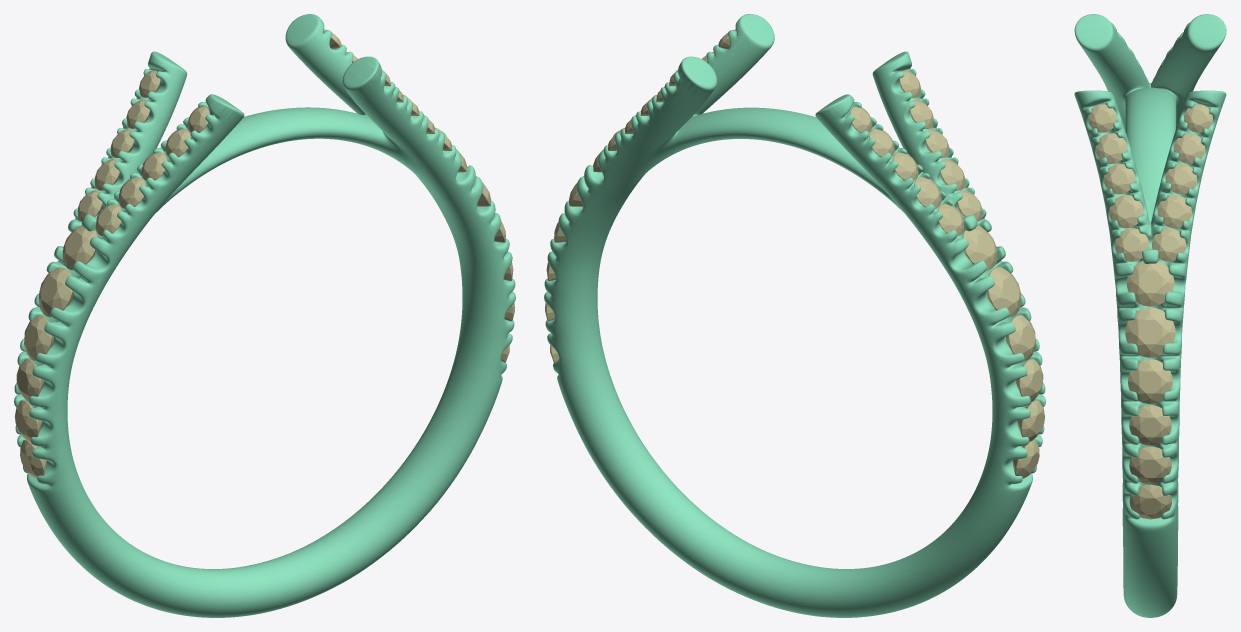
The picture shows the model from 3 angles, left to right: view 1: azimuth 30°, elevation 25°; view 2: azimuth 150°, elevation 25°; view 3: azimuth 270°, elevation 25°; orthographic projection. The views are drawn at different scales.
Parts seen in each view (by area): view 1: Metal02, Diamond_Gem.011, Diamond_Gem.010, Diamond_Gem.012, Diamond_Gem.013, Diamond_Gem.014; view 2: Metal02, Diamond_Gem.011, Diamond_Gem.010, Diamond_Gem.012, Diamond_Gem.013, Diamond_Gem.014; view 3: Metal02, Diamond_Gem.020, Diamond_Gem.021, Diamond_Gem.019, Diamond_Gem.018, Diamond_Gem.017, Diamond_Gem.016, Diamond_Gem.030, Diamond_Gem.024, Diamond_Gem.026, Diamond_Gem.031, Diamond_Gem.023 (+5 smaller).
Boxes of the visible parts, box(x1,y1,x2,y2) form: Metal02: box(14, 14, 515, 617); Diamond_Gem.011: box(38, 267, 73, 317); Diamond_Gem.010: box(62, 225, 96, 270); Diamond_Gem.012: box(24, 315, 53, 360); Diamond_Gem.013: box(16, 359, 43, 401); Diamond_Gem.014: box(14, 400, 42, 441); Metal02: box(544, 14, 1045, 617); Diamond_Gem.011: box(986, 267, 1021, 317); Diamond_Gem.010: box(962, 225, 997, 270); Diamond_Gem.012: box(1006, 315, 1035, 360); Diamond_Gem.013: box(1016, 359, 1043, 401); Diamond_Gem.014: box(1017, 400, 1044, 441); Metal02: box(1074, 14, 1226, 617); Diamond_Gem.020: box(1125, 307, 1175, 357); Diamond_Gem.021: box(1126, 261, 1174, 306); Diamond_Gem.019: box(1128, 359, 1172, 403); Diamond_Gem.018: box(1129, 405, 1171, 445); Diamond_Gem.017: box(1129, 446, 1171, 484); Diamond_Gem.016: box(1129, 484, 1171, 519); Diamond_Gem.030: box(1109, 195, 1143, 228); Diamond_Gem.024: box(1157, 195, 1191, 228); Diamond_Gem.026: box(1152, 228, 1186, 261); Diamond_Gem.031: box(1115, 228, 1148, 261); Diamond_Gem.023: box(1165, 163, 1197, 194).
Size of the model in its own units: 20.9 by 22.55 by 5.76.
